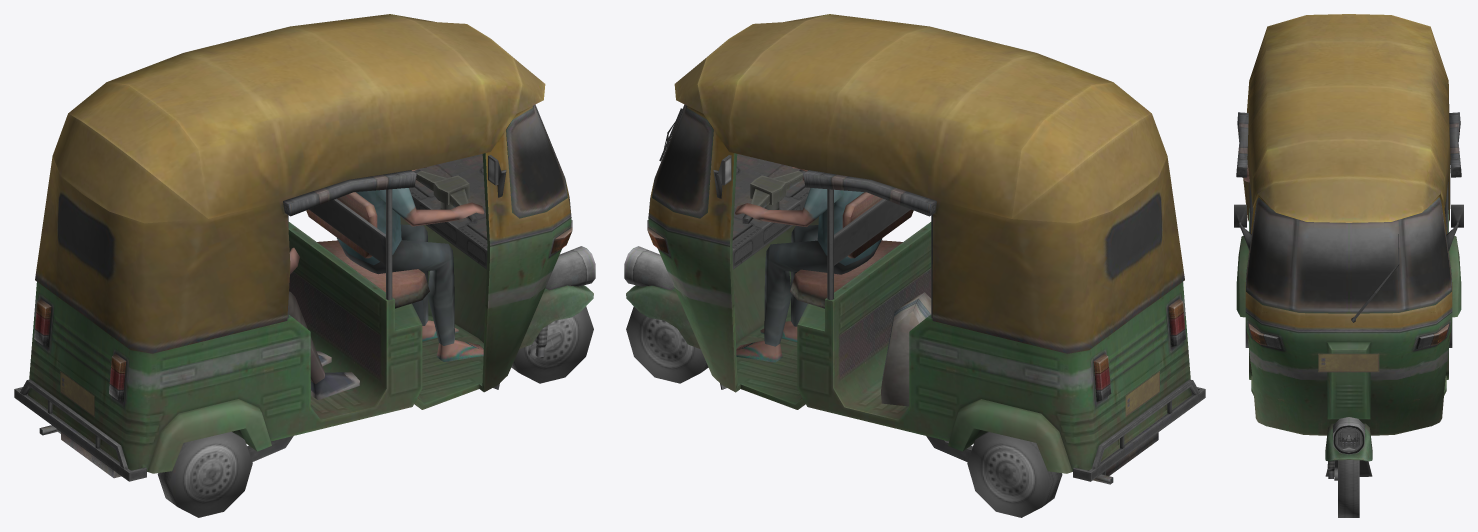
File: sf_rickshaw_02.glb
3 renders of one model, left to right at view 1: azimuth 30°, elevation 25°; view 2: azimuth 150°, elevation 25°; view 3: azimuth 270°, elevation 25°, orthographic. The views are drawn at different scales.
Visible parts, largest first — view 1: Traffick_Rickshaw_02_Body, Traffick_Rickshaw_02_Wheel_Rear_R_Traffic_Rickshaw_Component, Traffick_Rickshaw_02_Glass, Traffick_Rickshaw_02_Wheel_Front_Traffic_Rickshaw_Component_; view 2: Traffick_Rickshaw_02_Body, Traffick_Rickshaw_02_Wheel_Rear_L_Traffic_Rickshaw_Component, Traffick_Rickshaw_02_Glass, Traffick_Rickshaw_02_Wheel_Front_Traffic_Rickshaw_Component_; view 3: Traffick_Rickshaw_02_Body, Traffick_Rickshaw_02_Glass, Traffick_Rickshaw_02_Wheel_Front_Traffic_Rickshaw_Component_, Traffick_Rickshaw_02_Light.
Part boxes in pixels (x1,y1,x2,y2): Traffick_Rickshaw_02_Body: [14, 14, 595, 481]; Traffick_Rickshaw_02_Wheel_Rear_R_Traffic_Rickshaw_Component: [157, 431, 252, 517]; Traffick_Rickshaw_02_Glass: [506, 104, 567, 218]; Traffick_Rickshaw_02_Wheel_Front_Traffic_Rickshaw_Component_: [511, 306, 593, 383]; Traffick_Rickshaw_02_Body: [624, 14, 1205, 484]; Traffick_Rickshaw_02_Wheel_Rear_L_Traffic_Rickshaw_Component: [967, 432, 1062, 517]; Traffick_Rickshaw_02_Glass: [652, 104, 713, 218]; Traffick_Rickshaw_02_Wheel_Front_Traffic_Rickshaw_Component_: [626, 306, 708, 383]; Traffick_Rickshaw_02_Body: [1234, 14, 1463, 480]; Traffick_Rickshaw_02_Glass: [1246, 197, 1451, 313]; Traffick_Rickshaw_02_Wheel_Front_Traffic_Rickshaw_Component_: [1338, 460, 1359, 517]; Traffick_Rickshaw_02_Light: [1263, 333, 1434, 454].
Size of the model in its own units: 3.01 by 2.11 by 1.31.
Materials: 4 (4 with a texture image).
